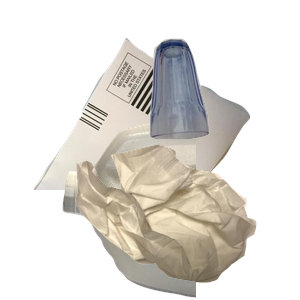glass: (147, 36, 300, 168)
paper: (31, 35, 271, 215)
plastic: (60, 120, 300, 300)
trash: (73, 142, 300, 300)
